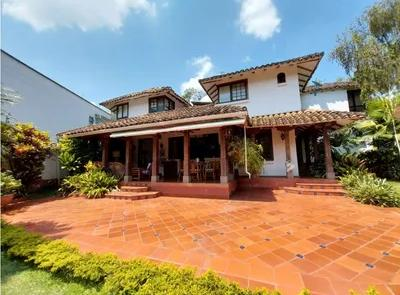casa: (50, 37, 381, 231)
